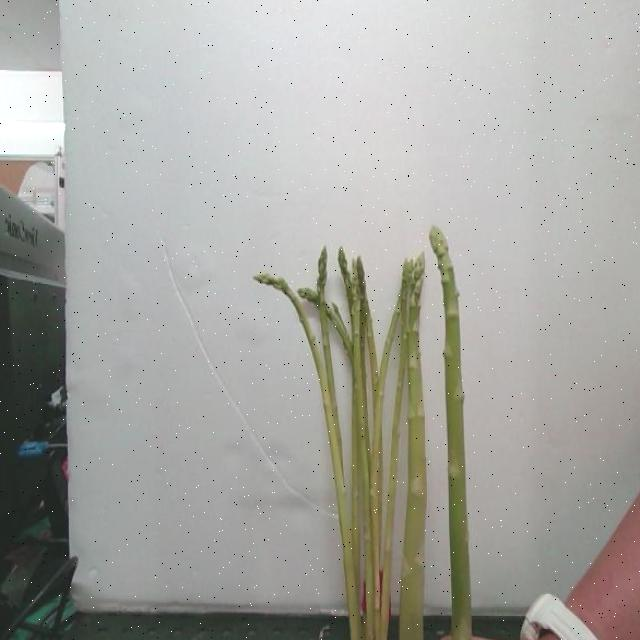aspargus: (427, 228, 472, 640)
